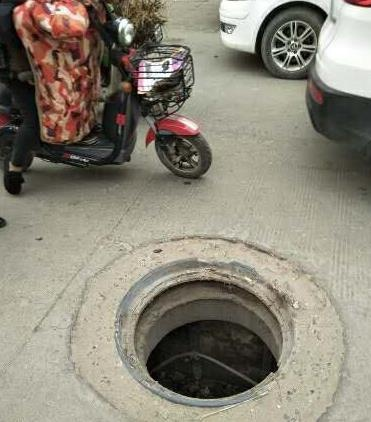lose: (115, 255, 297, 405)
